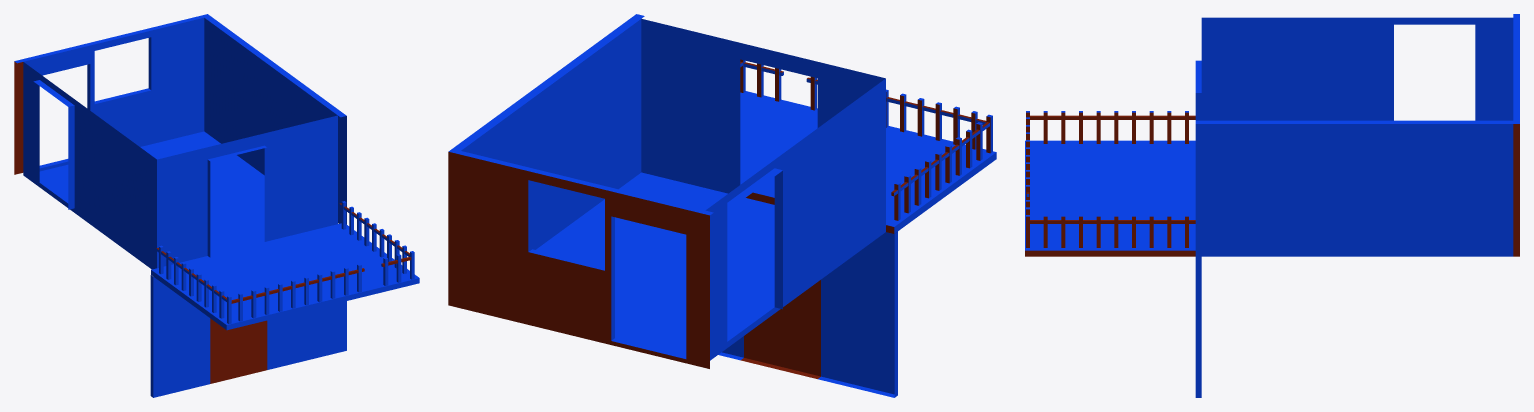
Rendered from Room3.FBX.
3 renders of one model, left to right at view 1: azimuth 30°, elevation 25°; view 2: azimuth 150°, elevation 25°; view 3: azimuth 270°, elevation 25°, orthographic. The views are drawn at different scales.
Visible parts, largest first — view 1: Room; view 2: Room; view 3: Room.
Boxes of the visible parts, bbox=[...] form: Room: bbox=[14, 14, 419, 397]; Room: bbox=[448, 14, 996, 397]; Room: bbox=[1025, 14, 1519, 397].
Size of the model in its own units: 227 by 432 by 263.
